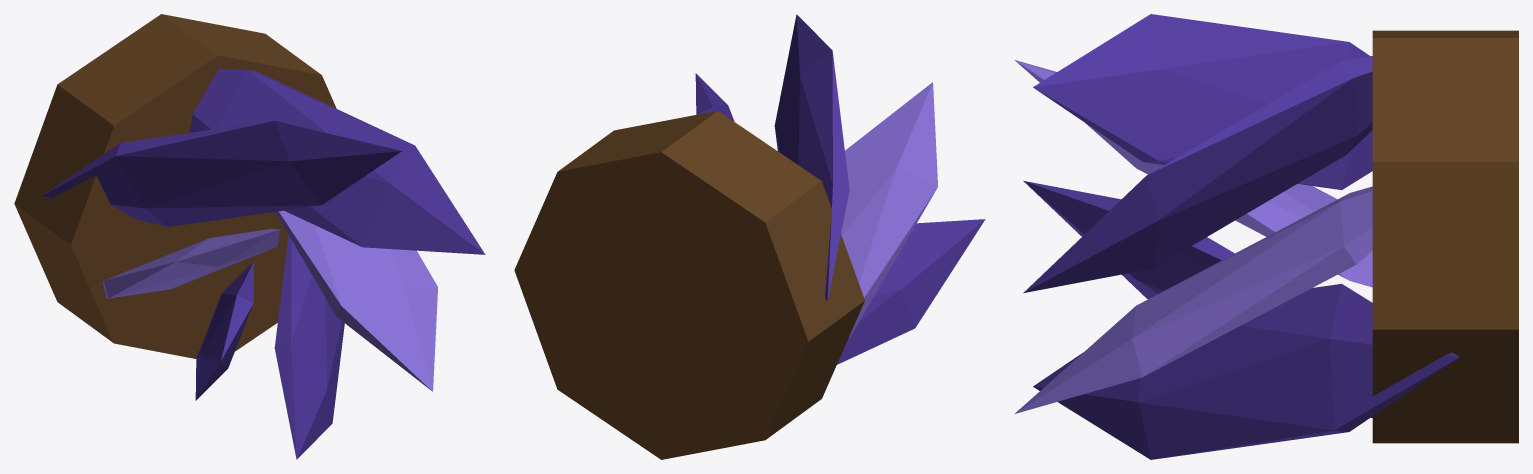
File: 2_sprouting.obj
3 renders of one model, left to right at view 1: azimuth 30°, elevation 25°; view 2: azimuth 150°, elevation 25°; view 3: azimuth 270°, elevation 25°, orthographic. The views are drawn at different scales.
Parts seen in each view (by area): view 1: cadantine_2_sprouting; view 2: cadantine_2_sprouting; view 3: cadantine_2_sprouting.
Boxes of the visible parts, x1,y1,x2,y2 form: cadantine_2_sprouting: [14, 14, 485, 459]; cadantine_2_sprouting: [514, 14, 985, 459]; cadantine_2_sprouting: [1015, 14, 1518, 459].
Size of the model in its own units: 0.12 by 0.1235 by 0.138.
